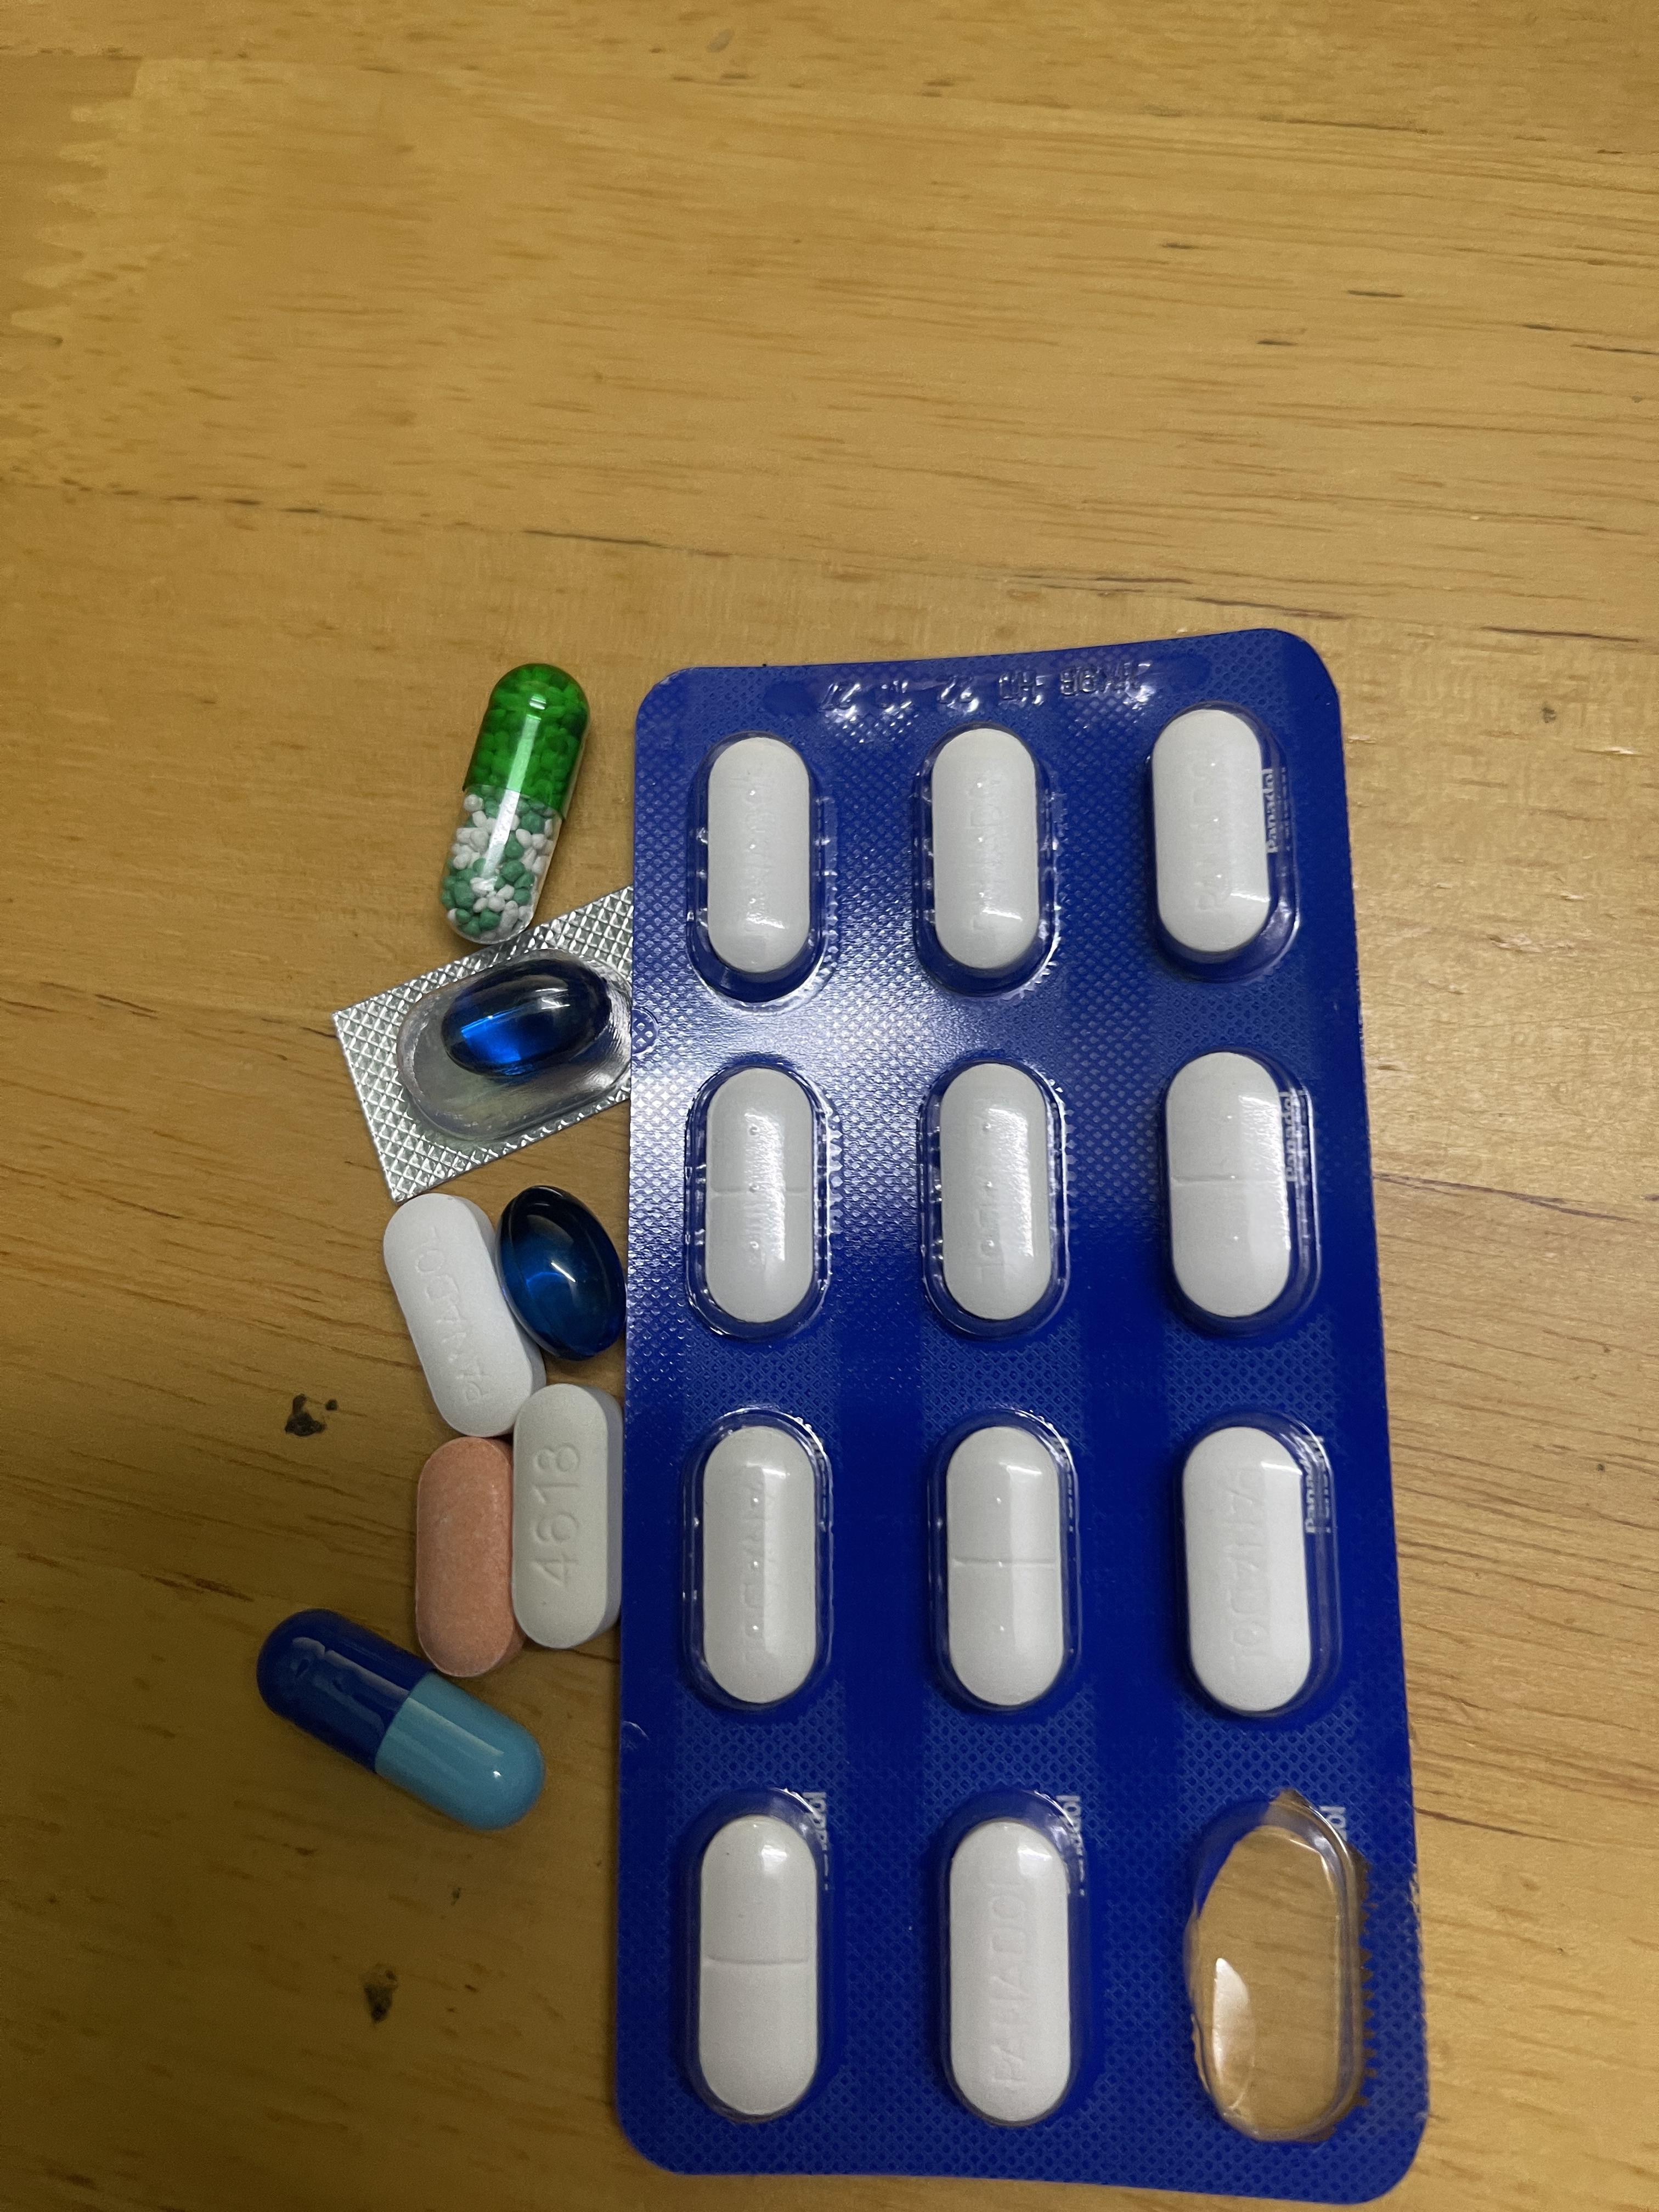Lincomyxin_500mg: (498, 1188, 619, 1364), (446, 968, 599, 1078)
Loratadine_10mg: (411, 1437, 516, 1670)
Paracetamol_350mg: (929, 1794, 1086, 2134), (674, 1794, 830, 2132), (1178, 1414, 1338, 1726), (925, 1413, 1080, 1719), (1159, 1049, 1319, 1341), (681, 1409, 830, 1712), (687, 1059, 831, 1338), (382, 1197, 545, 1437), (1150, 705, 1277, 974), (936, 1068, 1056, 1336), (925, 721, 1044, 984), (702, 733, 816, 988)
Paracetamol_500mg: (509, 1383, 622, 1651)
Paracetamol_650mg: (444, 664, 584, 934)
pill: (265, 1622, 537, 1829)
